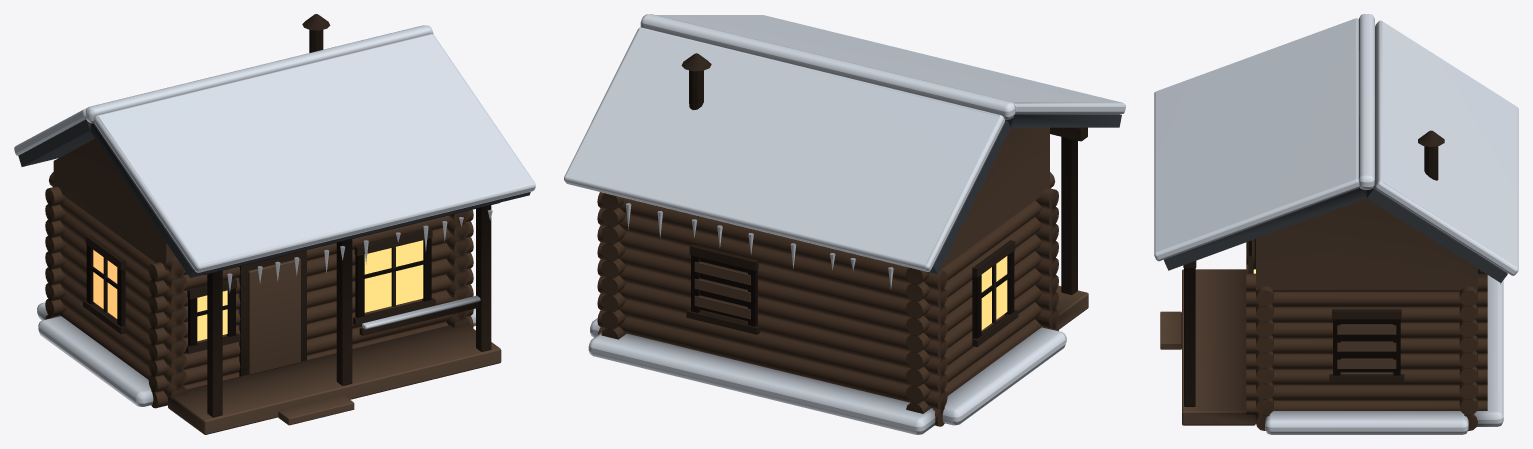
File: cabin_small.glb
3 renders of one model, left to right at view 1: azimuth 30°, elevation 25°; view 2: azimuth 150°, elevation 25°; view 3: azimuth 270°, elevation 25°, orthographic. The views are drawn at different scales.
Parts seen in each view (by area): view 1: CabinSmall; view 2: CabinSmall; view 3: CabinSmall.
Part boxes in pixels (x1,y1,x2,y2): CabinSmall: (14,14,535,434); CabinSmall: (564,14,1125,434); CabinSmall: (1154,14,1518,434).
Bounding box in the file's own units: 7.3 × 5.49 × 6.8.
